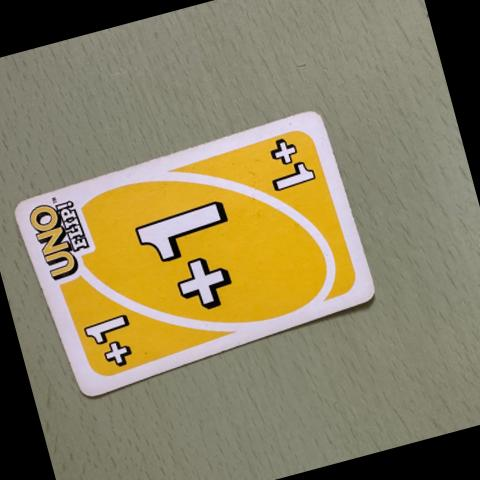lyellow-10: (70, 298, 160, 386)
